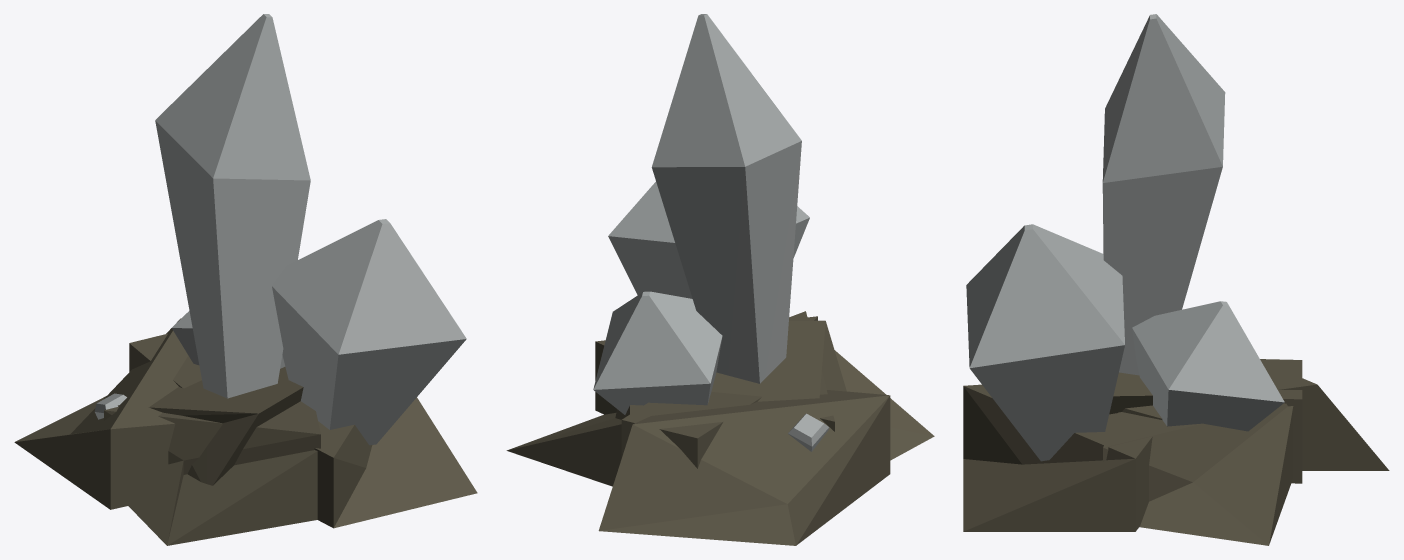
File: ironOre.fbx
The picture shows the model from 3 angles, left to right: view 1: azimuth 30°, elevation 25°; view 2: azimuth 150°, elevation 25°; view 3: azimuth 270°, elevation 25°; orthographic projection. The views are drawn at different scales.
Visible parts, largest first — view 1: ore; view 2: ore; view 3: ore.
Boxes of the visible parts, <box> form: ore: <box>14,14,477,545</box>; ore: <box>506,14,934,545</box>; ore: <box>963,14,1389,545</box>.
Bounding box in the file's own units: 38.31 × 51.14 × 42.74.
